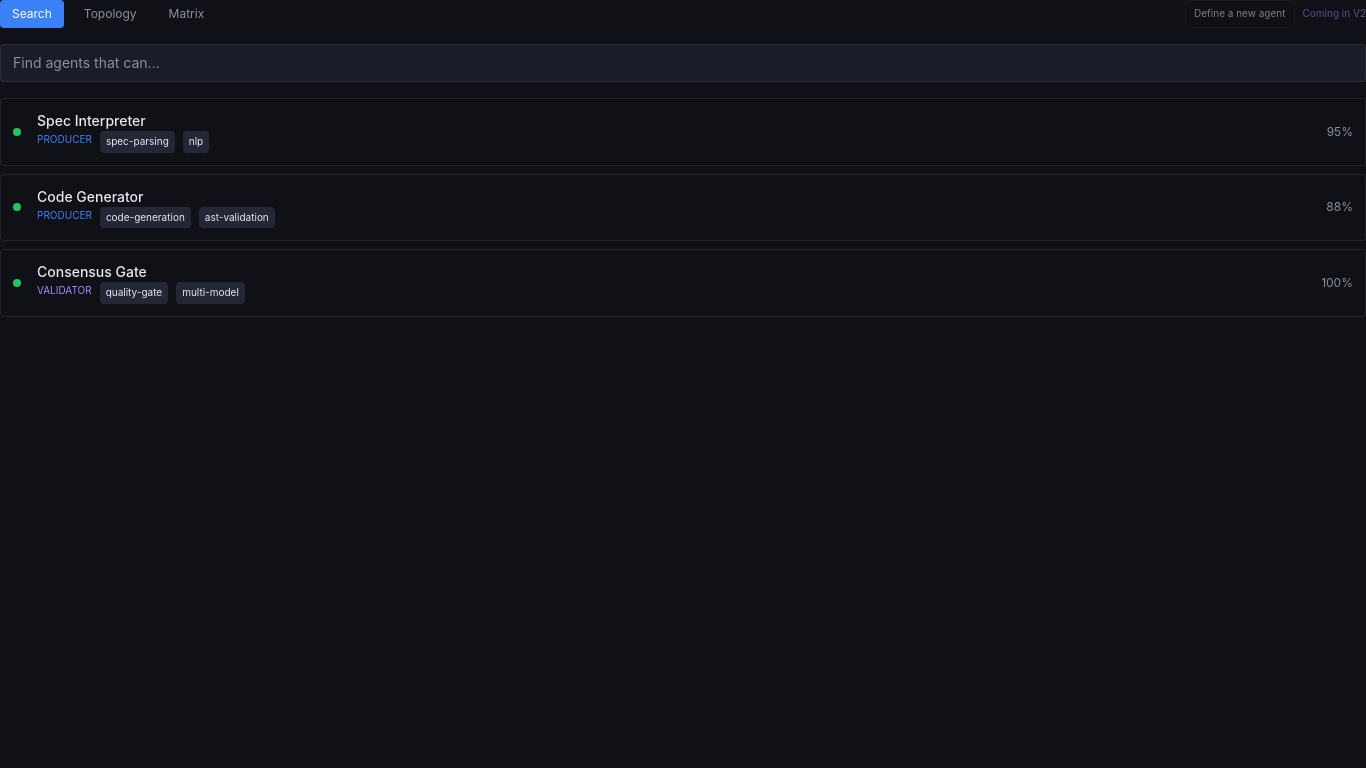
AgentRoster (Phase 2) › clicking an agent opens profile modal
Click the text "Spec Interpreter" at (91, 120), box [37,112,146,129]
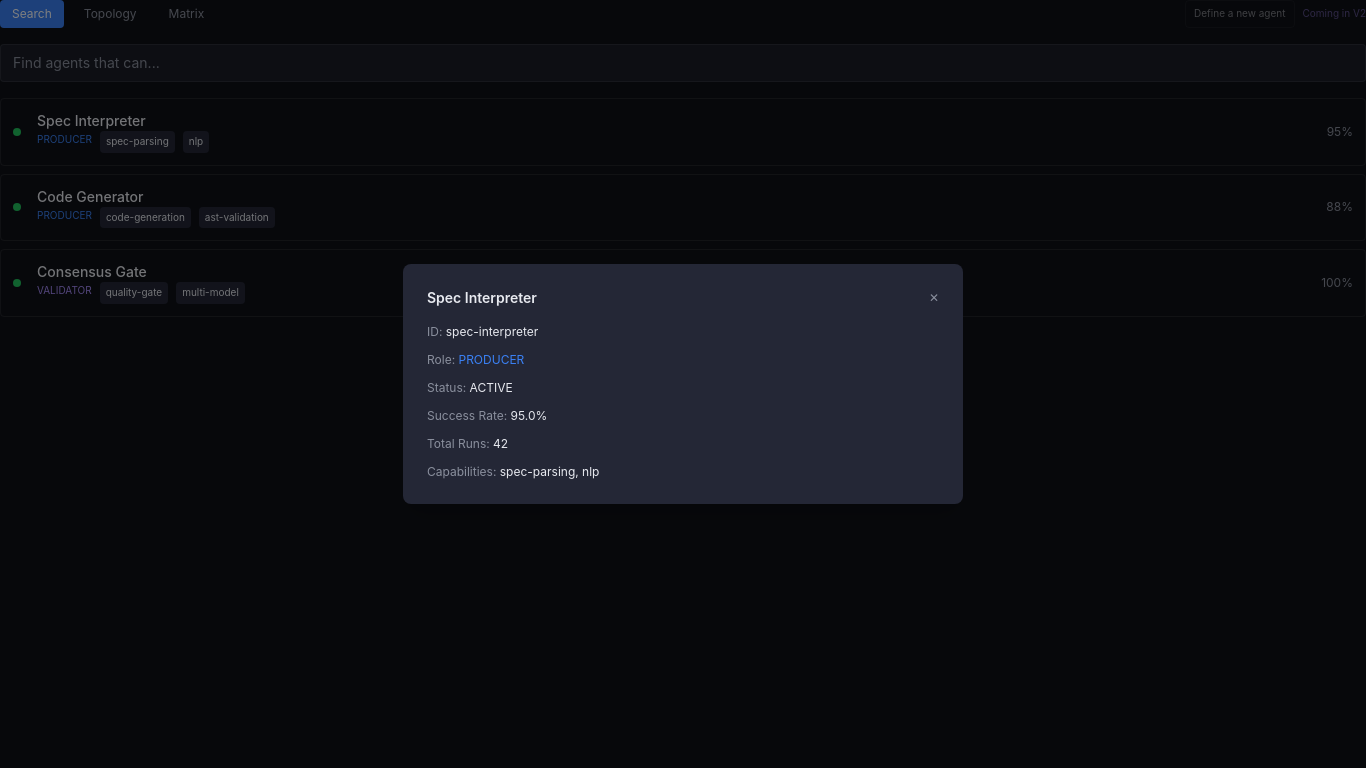
Now the dialog with test id "agent-profile-modal" is shown
Now the text "spec-interpreter" is shown, box [446,324,538,339]
